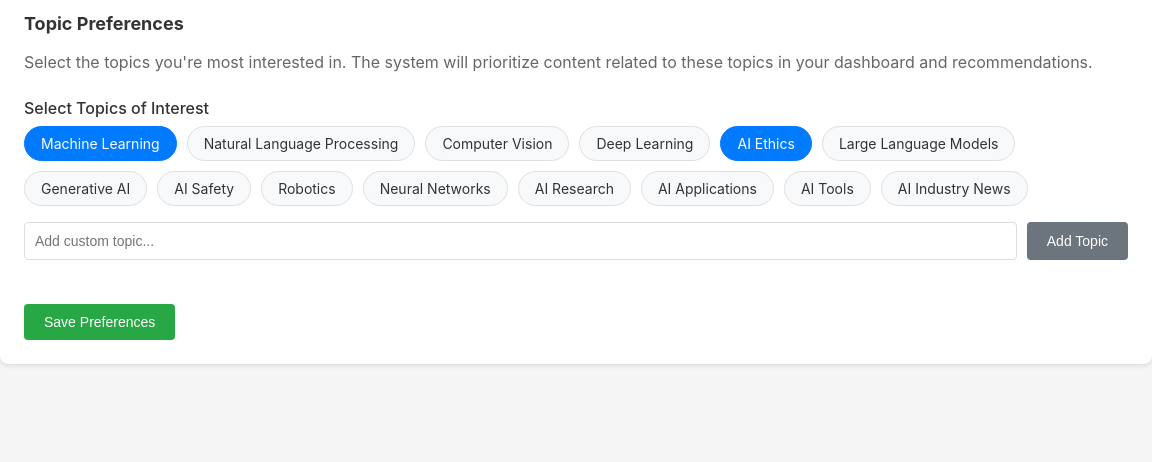
Test: TopicPreferences Component › adds custom topic on Enter key press
This screenshot has width=1152, height=462.
Type "Another Custom Topic" into the field with placeholder "Add custom topic...".
click(520, 241); type("Another Custom Topic")  # box [24,222,1017,260]
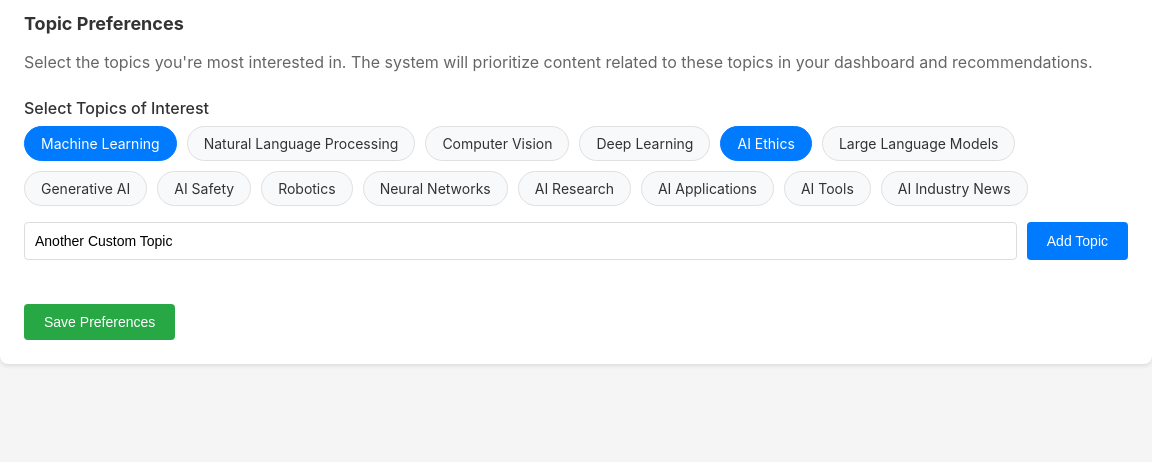
Press Enter in the field with placeholder "Add custom topic...", box [24,222,1017,260]
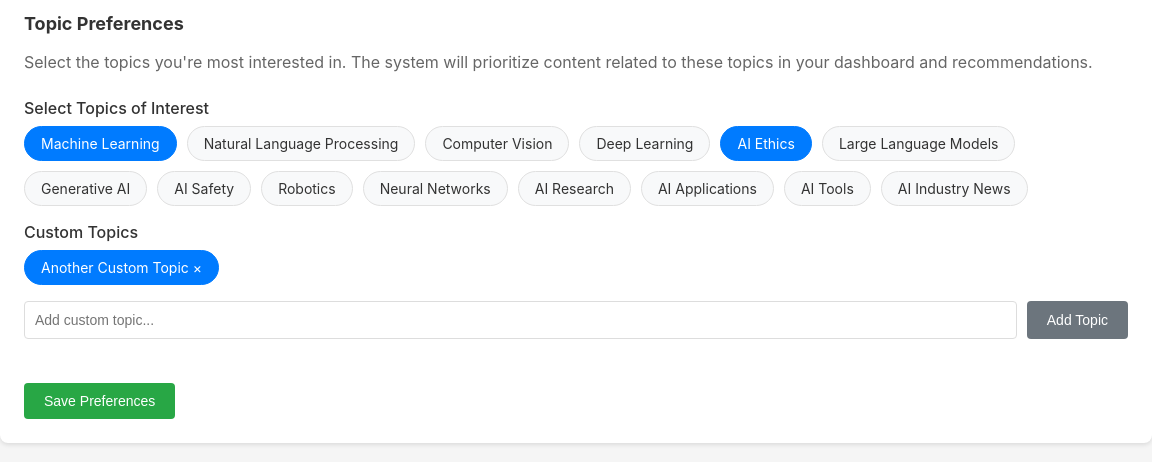
Expected: the text "Another Custom Topic ×" is shown, [24,250,219,285]
